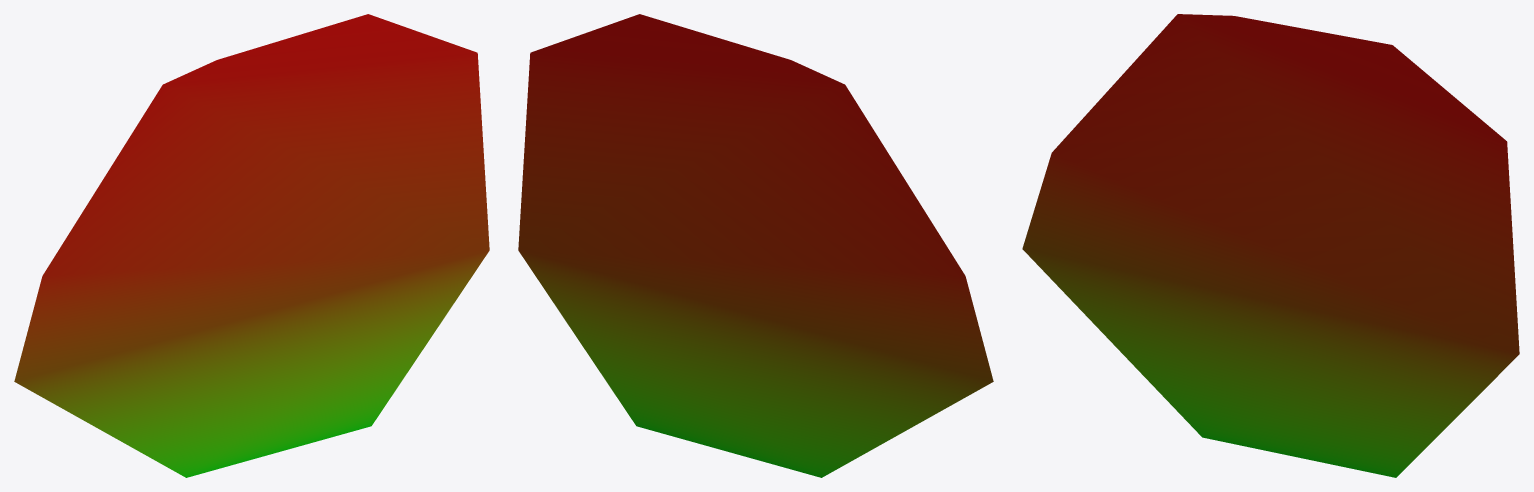
The model's file is Var1_LOD4.fbx.
3 views of the same model, side by side, from view 1: azimuth 30°, elevation 25°; view 2: azimuth 150°, elevation 25°; view 3: azimuth 330°, elevation 25° (orthographic). The views are drawn at different scales.
Parts seen in each view (by area): view 1: _grol_Var1_LOD4; view 2: _grol_Var1_LOD4; view 3: _grol_Var1_LOD4.
Part boxes in pixels (box(x1,y1,x2,y2)): _grol_Var1_LOD4: box(14, 14, 489, 477); _grol_Var1_LOD4: box(518, 14, 993, 477); _grol_Var1_LOD4: box(1022, 14, 1519, 477).
Bounding box in the file's own units: 33.57 × 28.31 × 1.43e-06.
